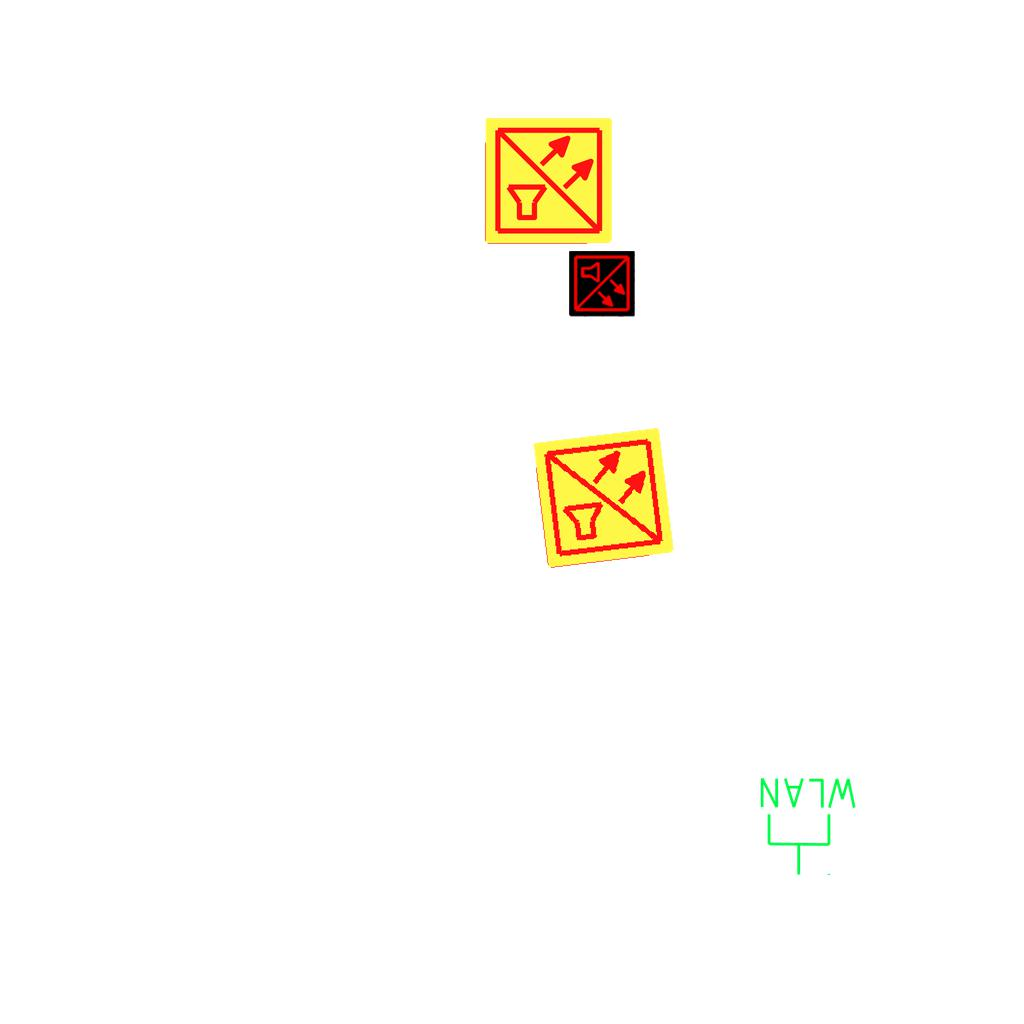OKW_Multisensormelder_(Kombination_optischer_Rauch-Kahlenmonoxid_Waerme-Melder): (530, 424, 678, 572), (483, 115, 615, 247), (569, 251, 635, 317)
WLAN: (756, 774, 861, 878)
